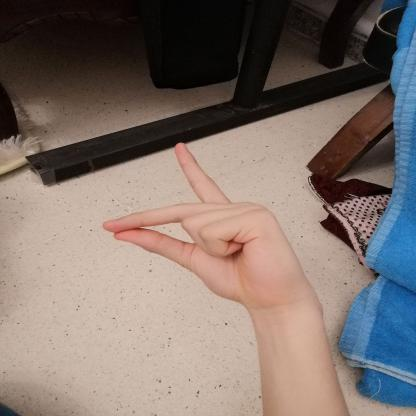TAA: (89, 133, 321, 311)
